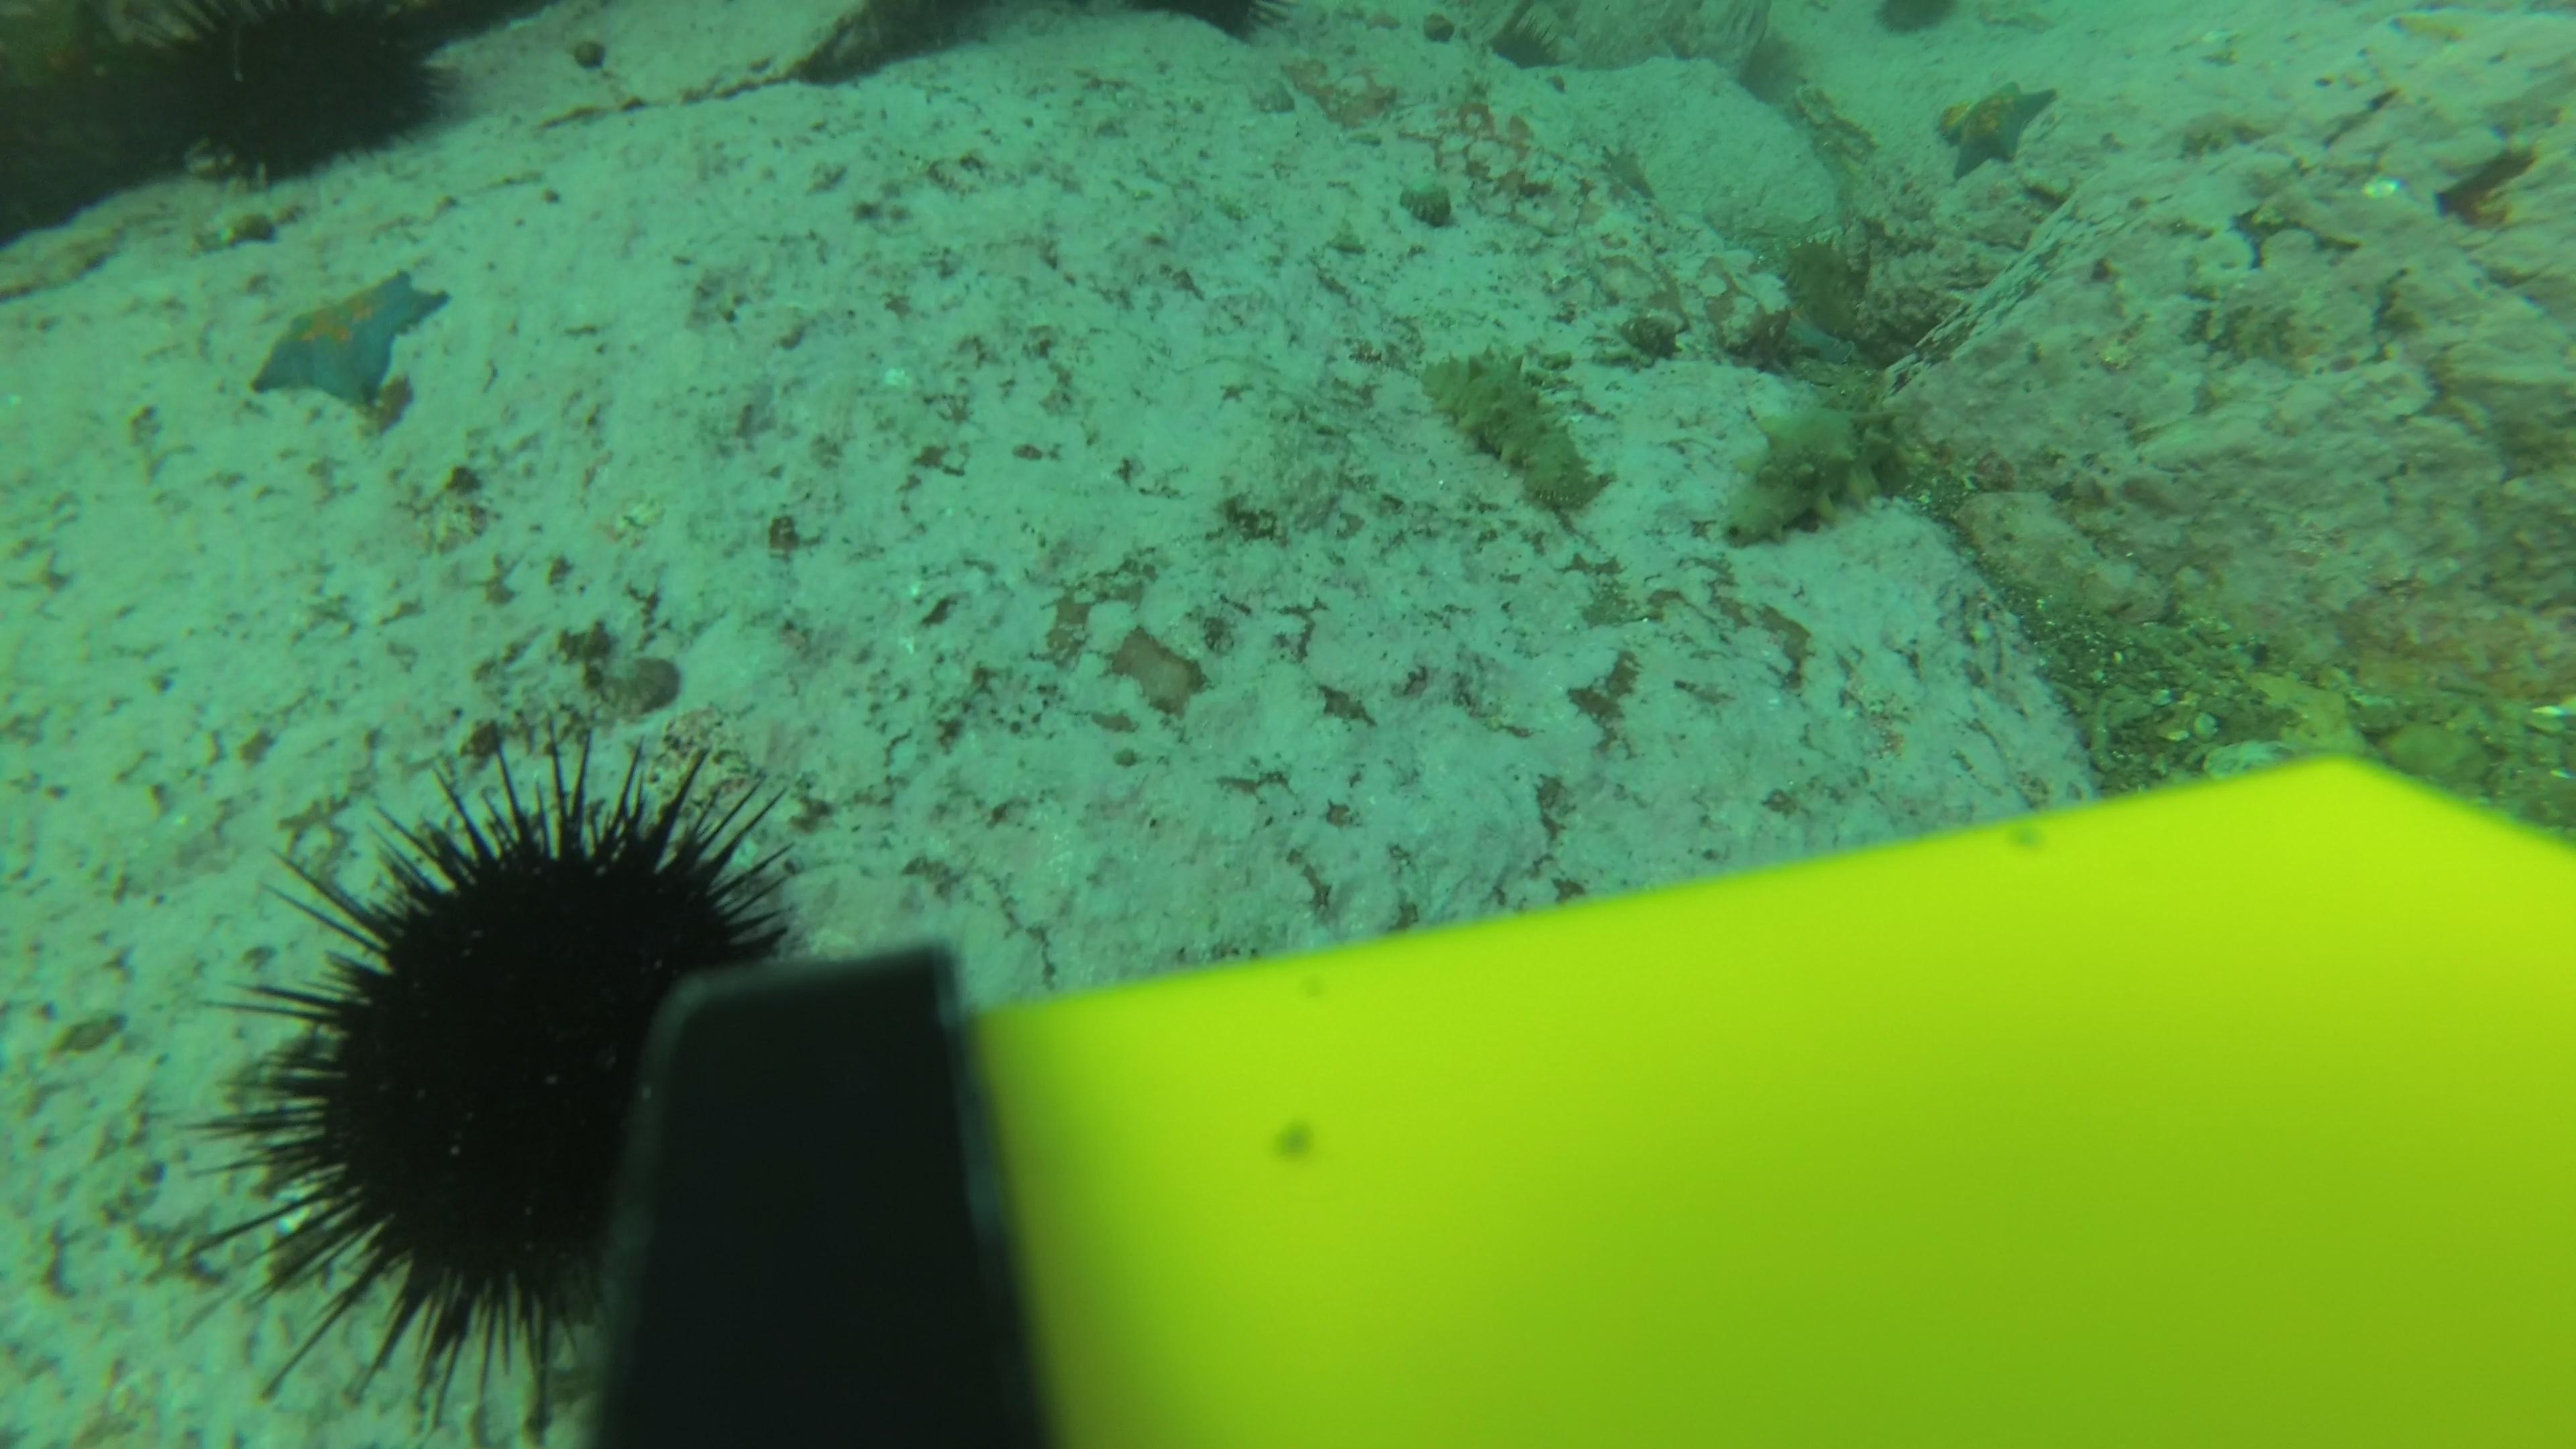echinus: (218, 732, 810, 1391), (147, 4, 462, 188)
holothurian: (1713, 363, 1925, 552), (1415, 338, 1612, 518), (1771, 225, 1902, 343)
starfish: (241, 265, 453, 416), (1932, 74, 2061, 180), (1773, 297, 1870, 372), (1592, 138, 1663, 207)
